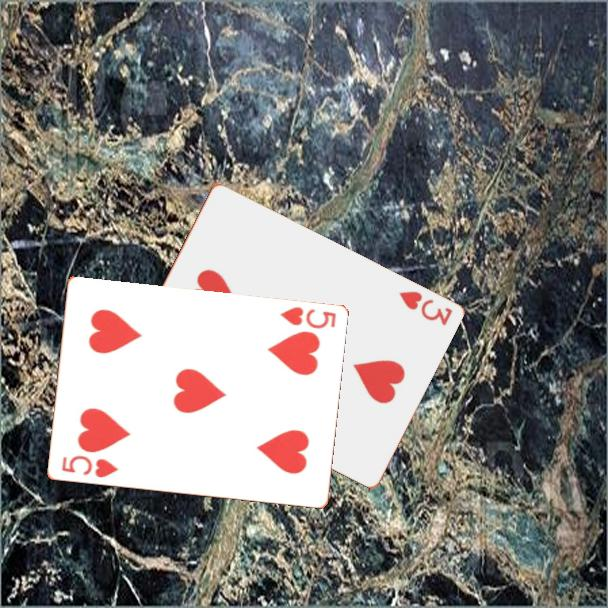h03: (395, 287, 455, 329)
h05: (58, 452, 121, 481), (276, 304, 339, 332)
